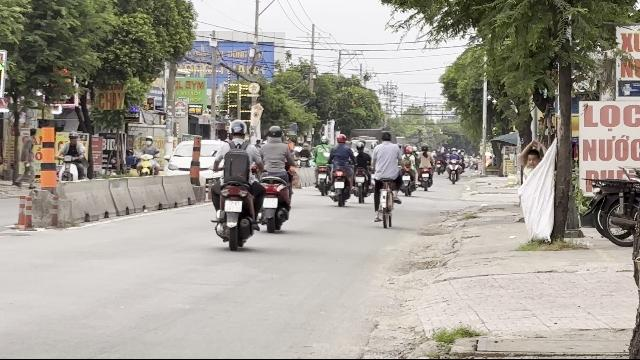helmet: (228, 118, 248, 138)
licenseplate: (224, 200, 242, 212)
motorcyclist: (208, 117, 262, 249)
